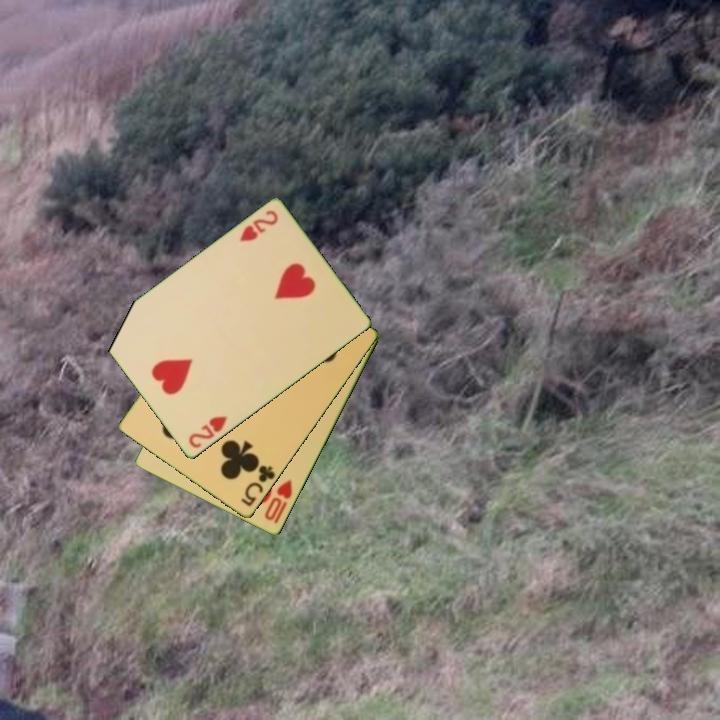10h: (261, 476, 296, 524)
2h: (185, 413, 231, 452), (236, 207, 281, 245)
5c: (237, 461, 278, 510)
